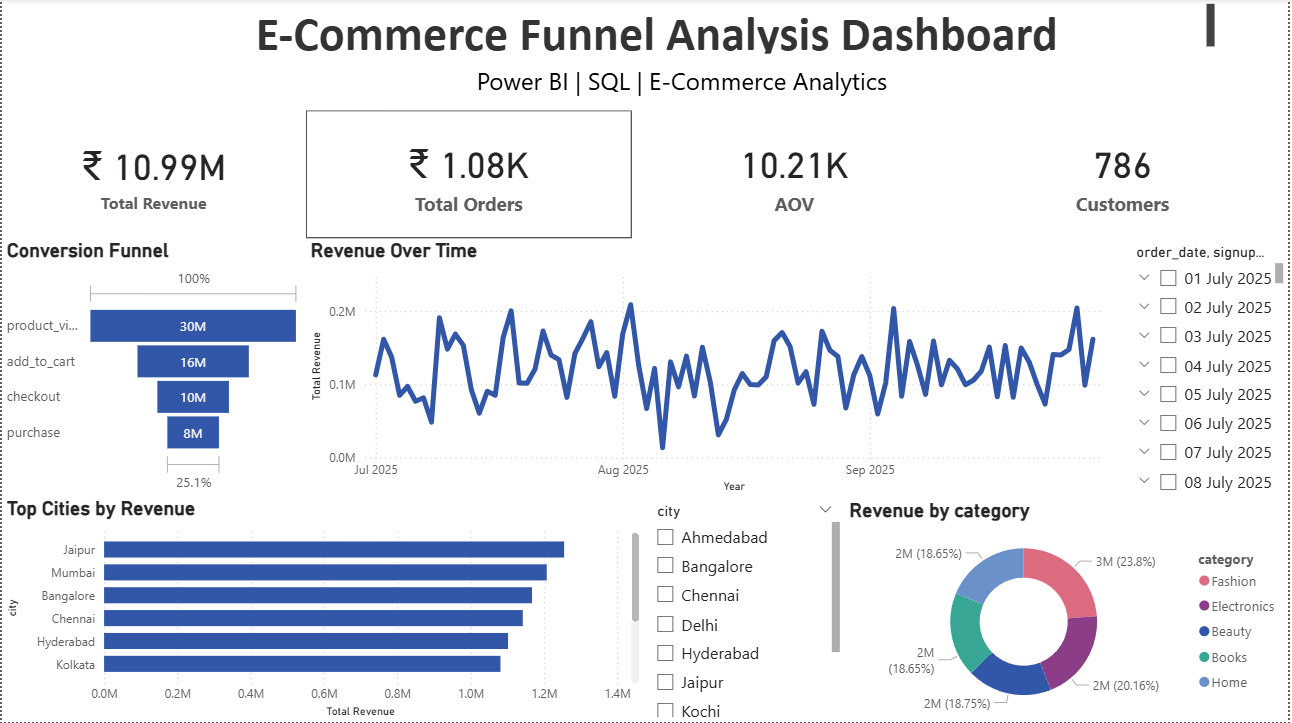

This screenshot's page, from the dashboard's own definition file:
{"tool":"powerbi","page":{"name":"Page 1","canvas":[1280,720],"ordinal":0},"visuals":[{"type":"card","fields":{"Values":["orders.Total Orders"]},"box":[302.3,110.7,324.7,128.1],"z":1},{"type":"card","fields":{"Values":["orders.Customer"]},"box":[950.4,110.7,329.6,128.1],"z":2},{"type":"card","fields":{"Values":["orders.AOV"]},"box":[627,110.7,323.4,128.1],"z":3},{"type":"card","fields":{"Values":["orders.Total Revenue"]},"box":[0,110.7,302.3,128.1],"z":4},{"type":"funnel","title":"Conversion Funnel","fields":{"Category":["events.event_type"],"Y":["Sum(events.event_id)"]},"box":[0,238.6,302.7,257.7],"z":5},{"type":"lineChart","title":"Revenue Over Time","fields":{"Category":["orders.order_date.Variation.Date Hierarchy.Year","orders.order_date.Variation.Date Hierarchy.Quarter","orders.order_date.Variation.Date Hierarchy.Month","orders.order_date.Variation.Date Hierarchy.Day"],"Y":["orders.Total Revenue"]},"box":[302.3,238.8,813.5,257.5],"z":6},{"type":"barChart","title":"Top Cities by Revenue","fields":{"Category":["users.city"],"Y":["orders.Total Revenue"]},"box":[0,496.3,639.5,223.6],"z":7},{"type":"slicer","fields":{"Values":["users.city"]},"box":[639.5,496.3,199.1,223.6],"z":8},{"type":"donutChart","title":"Revenue by category","fields":{"Category":["products.category"],"Y":["orders.Total Revenue"]},"box":[838,497,442,223],"z":9},{"type":"textbox","box":[99.5,0,1112.1,59.7],"z":10},{"type":"textbox","box":[253.8,59.7,845.9,51],"z":11},{"type":"slicer","fields":{"Values":["orders.order_date","users.signup_date"]},"box":[1116,239,164,257],"z":12}]}

Visuals, with their boxes in screenshot pixels (x1, y1, x2, y2), scaled from the page's 1280x720 canvas onto the 1292x723 screenshot:
card - orders.Total Orders: [x1=305, y1=111, x2=633, y2=240]
card - orders.Customer: [x1=959, y1=111, x2=1291, y2=240]
card - orders.AOV: [x1=633, y1=111, x2=959, y2=240]
card - orders.Total Revenue: [x1=0, y1=111, x2=305, y2=240]
"Conversion Funnel" funnel: [x1=0, y1=240, x2=306, y2=498]
"Revenue Over Time" lineChart: [x1=305, y1=240, x2=1126, y2=498]
"Top Cities by Revenue" barChart: [x1=0, y1=498, x2=645, y2=722]
slicer - users.city: [x1=645, y1=498, x2=846, y2=722]
"Revenue by category" donutChart: [x1=846, y1=499, x2=1291, y2=722]
textbox: [x1=100, y1=0, x2=1223, y2=60]
textbox: [x1=256, y1=60, x2=1110, y2=111]
slicer - orders.order_date x users.signup_date: [x1=1126, y1=240, x2=1291, y2=498]
